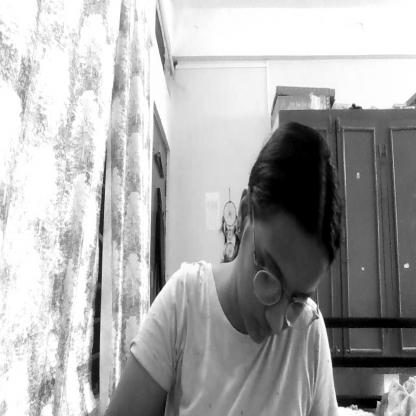Distracted: (234, 126, 342, 342)
